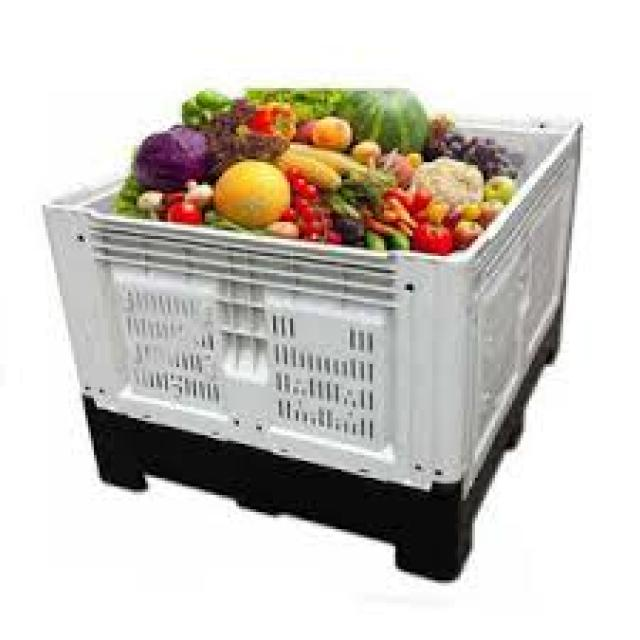basket: (0, 22, 606, 593)
